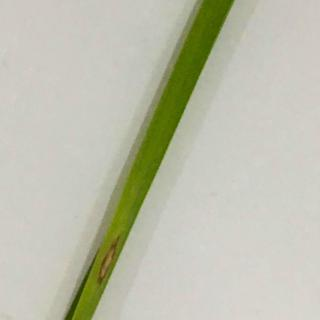Blast: (94, 238, 122, 288)
